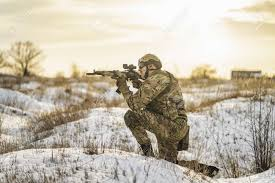gun: (84, 64, 146, 92)
